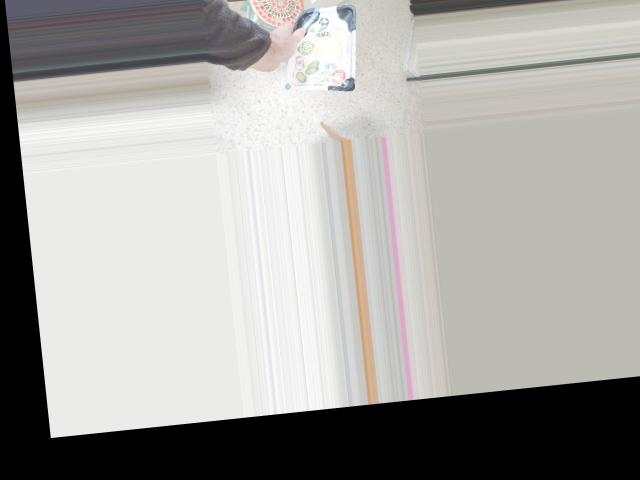cheese: (265, 17, 339, 97)
